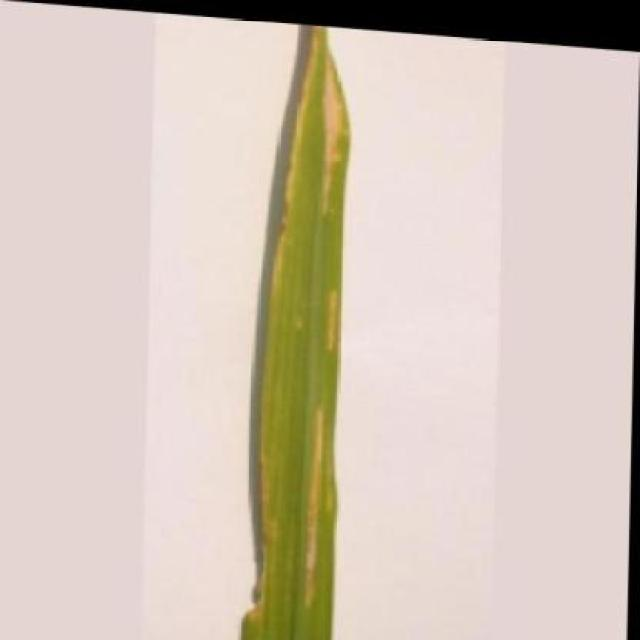Brown_Spot: (232, 15, 360, 640)
